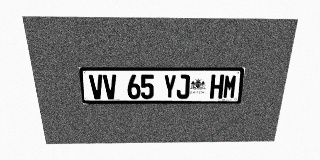5: (141, 74, 154, 99)
6: (127, 74, 141, 99)
H: (209, 74, 224, 99)
J: (176, 74, 190, 99)
M: (222, 74, 238, 99)
V: (89, 74, 104, 99), (103, 74, 117, 99)
Y: (163, 74, 176, 99)
